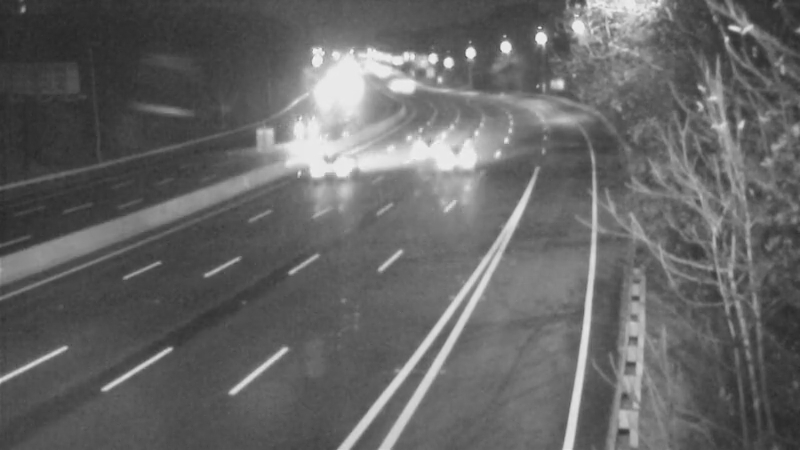vehicle: (421, 121, 501, 201), (295, 117, 375, 197), (396, 120, 446, 170), (283, 113, 333, 163)
